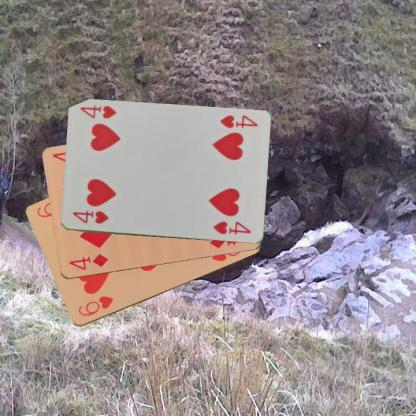4d: (66, 252, 110, 272)
4h: (69, 208, 110, 226), (216, 113, 258, 130)
6h: (75, 293, 115, 318)
